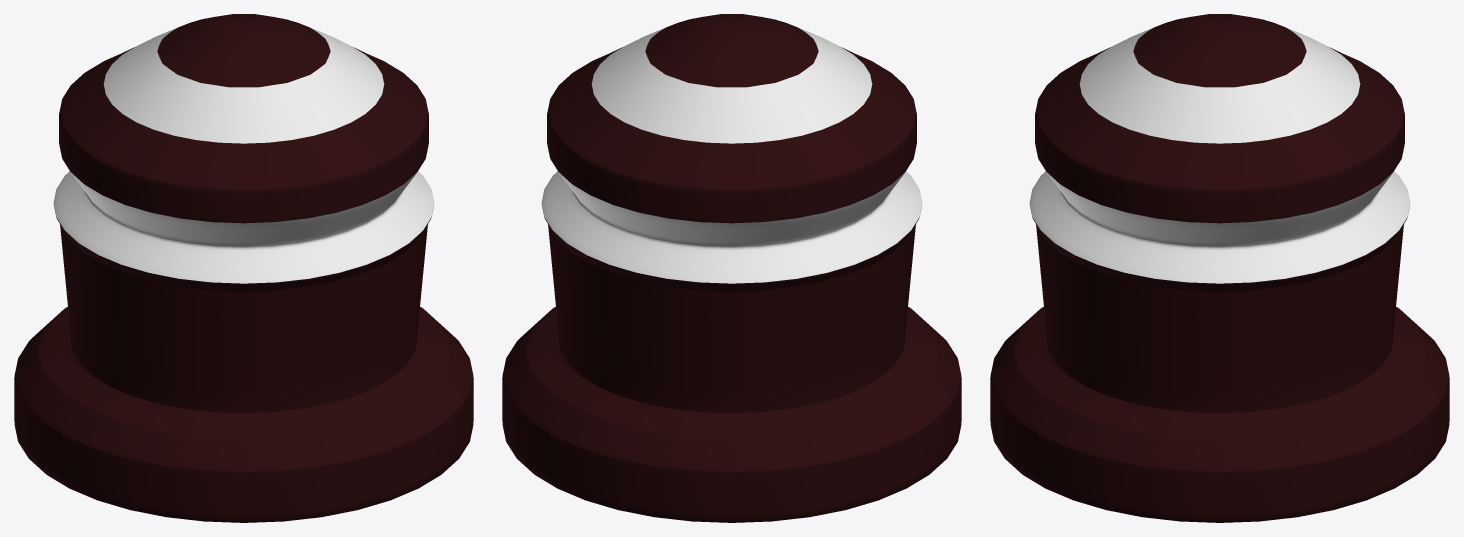
File: Corner.fbx
The picture shows the model from 3 angles, left to right: view 1: azimuth 30°, elevation 25°; view 2: azimuth 150°, elevation 25°; view 3: azimuth 270°, elevation 25°; orthographic projection.
Parts seen in each view (by area): view 1: Table edges003; view 2: Table edges003; view 3: Table edges003.
Boxes of the visible parts, x1,y1,x2,y2 form: Table edges003: (14, 14, 473, 522); Table edges003: (502, 14, 961, 522); Table edges003: (990, 14, 1449, 522).
Bounding box in the file's own units: 180 × 175 × 180.
